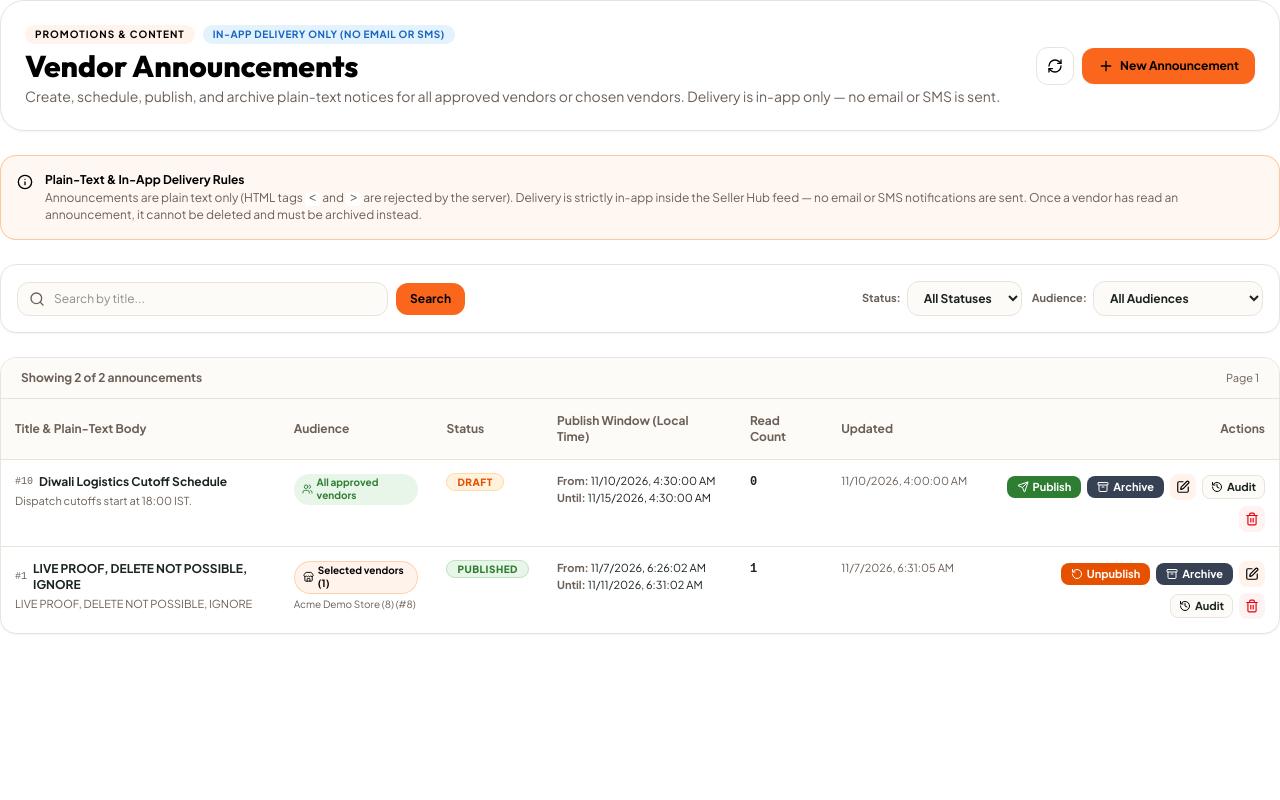
Scenario: AnnouncementsModule — Real Backend Wiring › 4. opens audit history panel and displays actor, action, timestamp, and old/new values
Expected: the text "Diwali Logistics Cutoff Schedule" is shown, [39,474,227,490]
What coordinates should you click on to do the following:
click the button with test id "audit-announcement-1"
I would click on:
 (1202, 606)
Its box is [1170,594,1233,618].
(page scrolled)
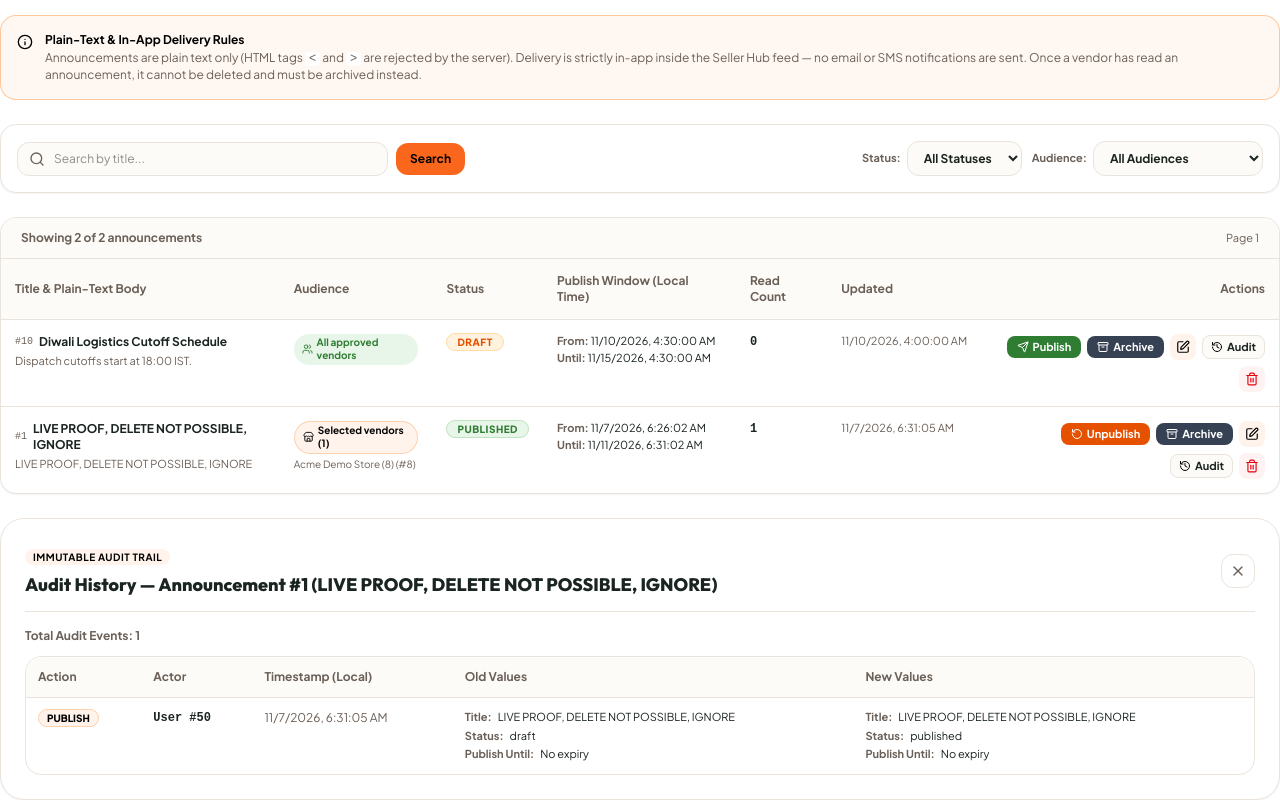
Expected: the element with test id "audit-history-panel" is shown, [0,518,1279,799]
Expected: the row with test id "audit-row-99" is shown, [26,698,1254,774]
Expected: the text "User #50" is shown, [141,698,252,774]
